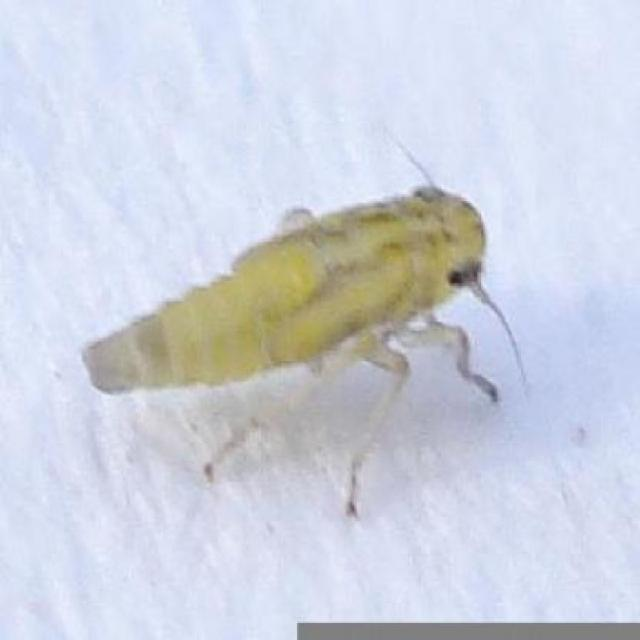green-leafhopper: (79, 189, 496, 515)
